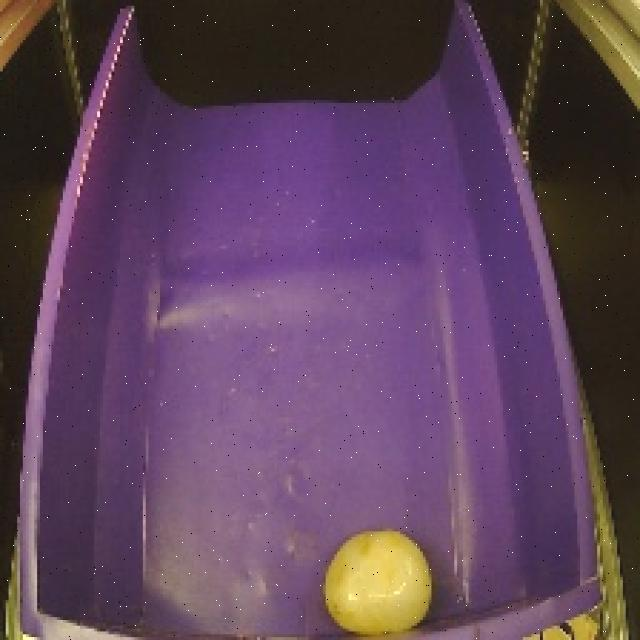cobbles: (315, 514, 447, 640)
